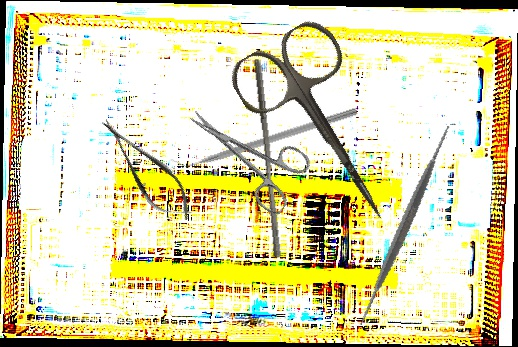Chopper: (168, 97, 360, 175)
Iris Scissors: (223, 12, 427, 249), (173, 86, 318, 218)
Micro Scissor: (90, 107, 203, 232)
Pusher: (245, 58, 289, 259)
Spatula Surgical: (303, 122, 506, 329)
